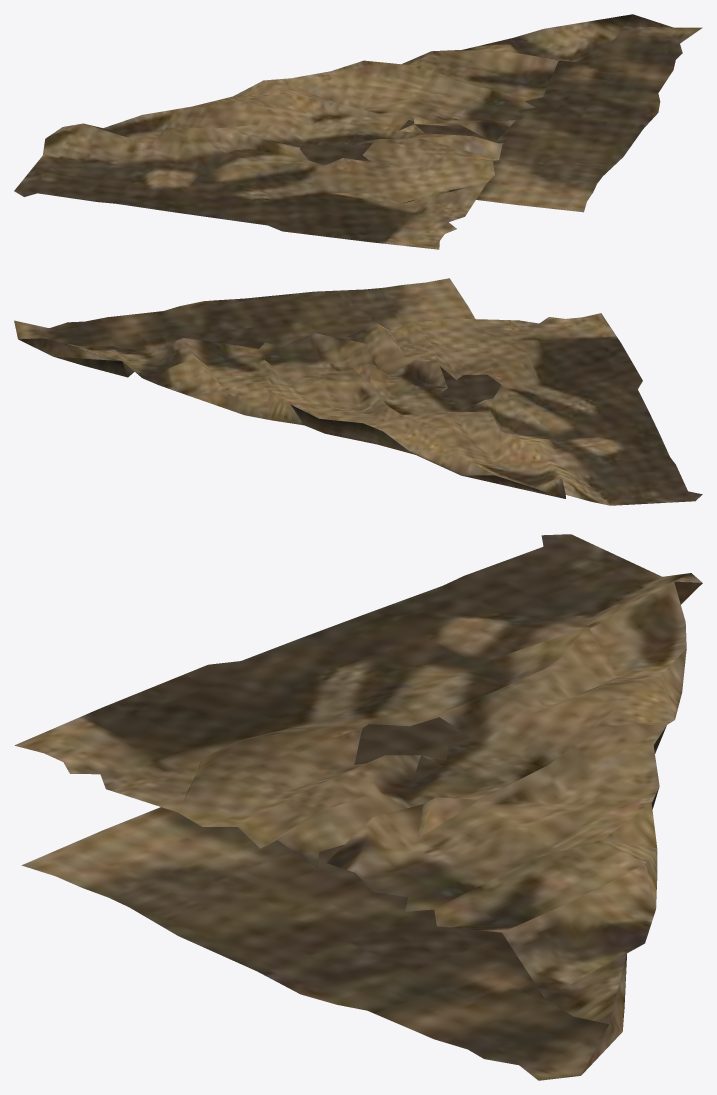
File: rag_burlap_sack_1_lod1_web.glb
3 renders of one model, top to bottom at view 1: azimuth 30°, elevation 25°; view 2: azimuth 150°, elevation 25°; view 3: azimuth 270°, elevation 25°, orthographic. The views are drawn at different scales.
Visible parts, largest first — view 1: rag_burlap_sack_1_Cloth; view 2: rag_burlap_sack_1_Cloth; view 3: rag_burlap_sack_1_Cloth.
Boxes of the visible parts, box(x1,y1,x2,y2) form: rag_burlap_sack_1_Cloth: box(14, 14, 702, 249); rag_burlap_sack_1_Cloth: box(14, 278, 702, 505); rag_burlap_sack_1_Cloth: box(14, 534, 702, 1080).
Size of the model in its own units: 1.06 by 0.0363 by 0.5543.
Materials: 1 (1 with a texture image).
